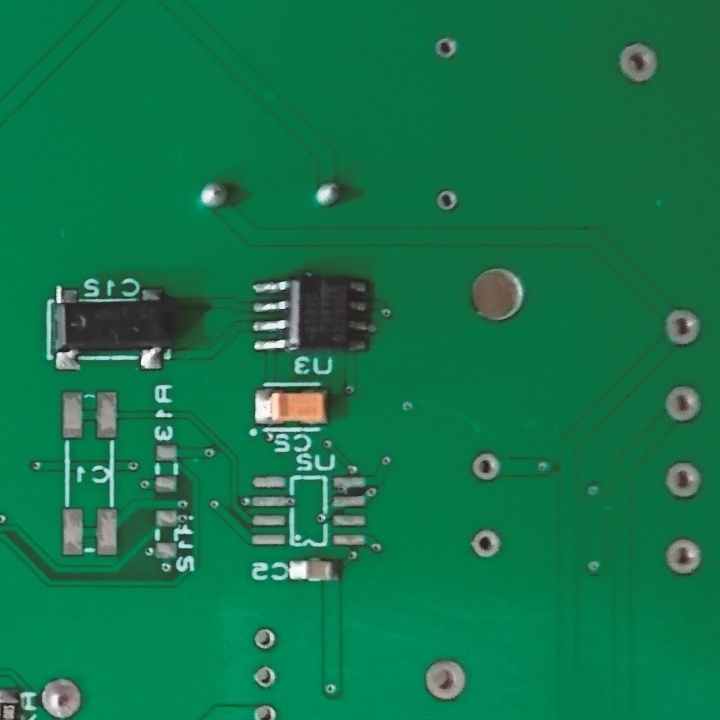F: (614, 40, 659, 87), (424, 657, 467, 706), (38, 675, 85, 719), (661, 304, 704, 352), (662, 383, 704, 427), (665, 535, 704, 580), (663, 459, 703, 502), (470, 451, 504, 485), (470, 528, 504, 562), (251, 626, 279, 655), (433, 186, 459, 214), (252, 666, 281, 690), (250, 700, 280, 720), (433, 37, 459, 60)
